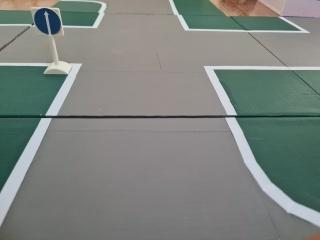straight: (31, 5, 64, 40)
